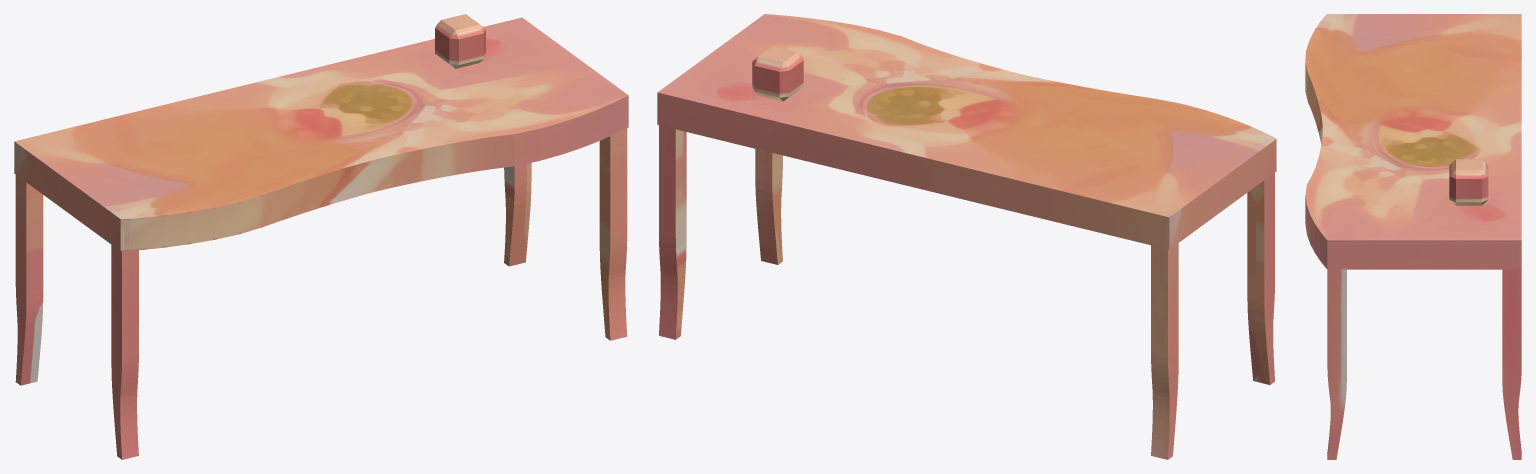
The model's file is edited_mesh.glb.
3 views of the same model, side by side, from view 1: azimuth 30°, elevation 25°; view 2: azimuth 150°, elevation 25°; view 3: azimuth 270°, elevation 25° (orthographic). The views are drawn at different scales.
Parts seen in each view (by area): view 1: solid_001_wire; view 2: solid_001_wire; view 3: solid_001_wire.
Boxes of the visible parts, bbox=[...] form: solid_001_wire: bbox=[14, 14, 628, 459]; solid_001_wire: bbox=[657, 14, 1276, 459]; solid_001_wire: bbox=[1305, 14, 1521, 459].
Size of the model in its own units: 1.95 by 1.03 by 0.7881.
Materials: 1 (1 with a texture image).
